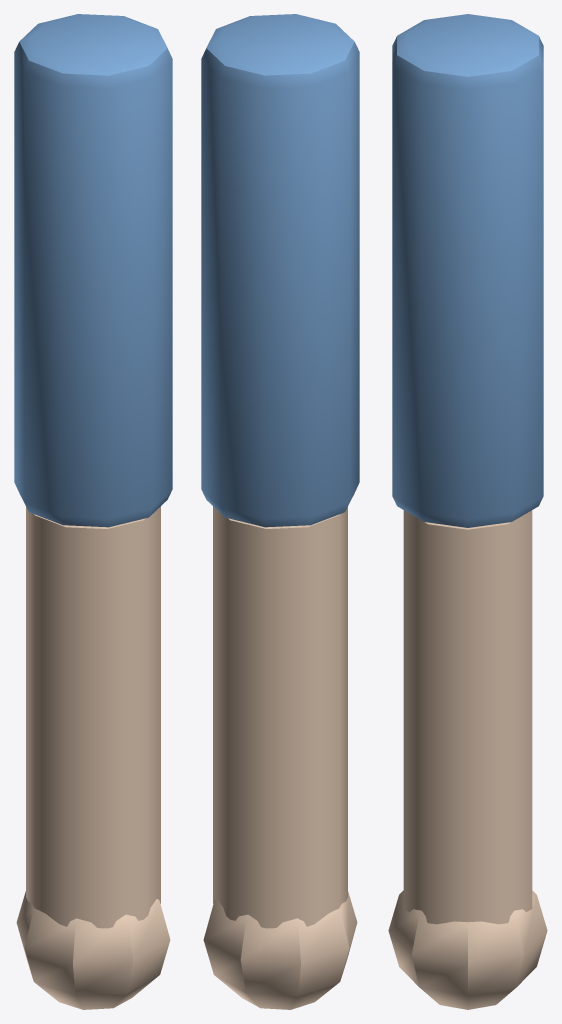
Rendered from person_arm.glb.
3 views of the same model, side by side, from view 1: azimuth 30°, elevation 25°; view 2: azimuth 150°, elevation 25°; view 3: azimuth 270°, elevation 25° (orthographic).
Parts seen in each view (by area): view 1: person_arm; view 2: person_arm; view 3: person_arm.
Part boxes in pixels (x1,y1,x2,y2): person_arm: [14, 14, 172, 1009]; person_arm: [201, 14, 359, 1009]; person_arm: [388, 14, 547, 1009].
Bounding box in the file's own units: 0.094 × 0.627 × 0.094.
